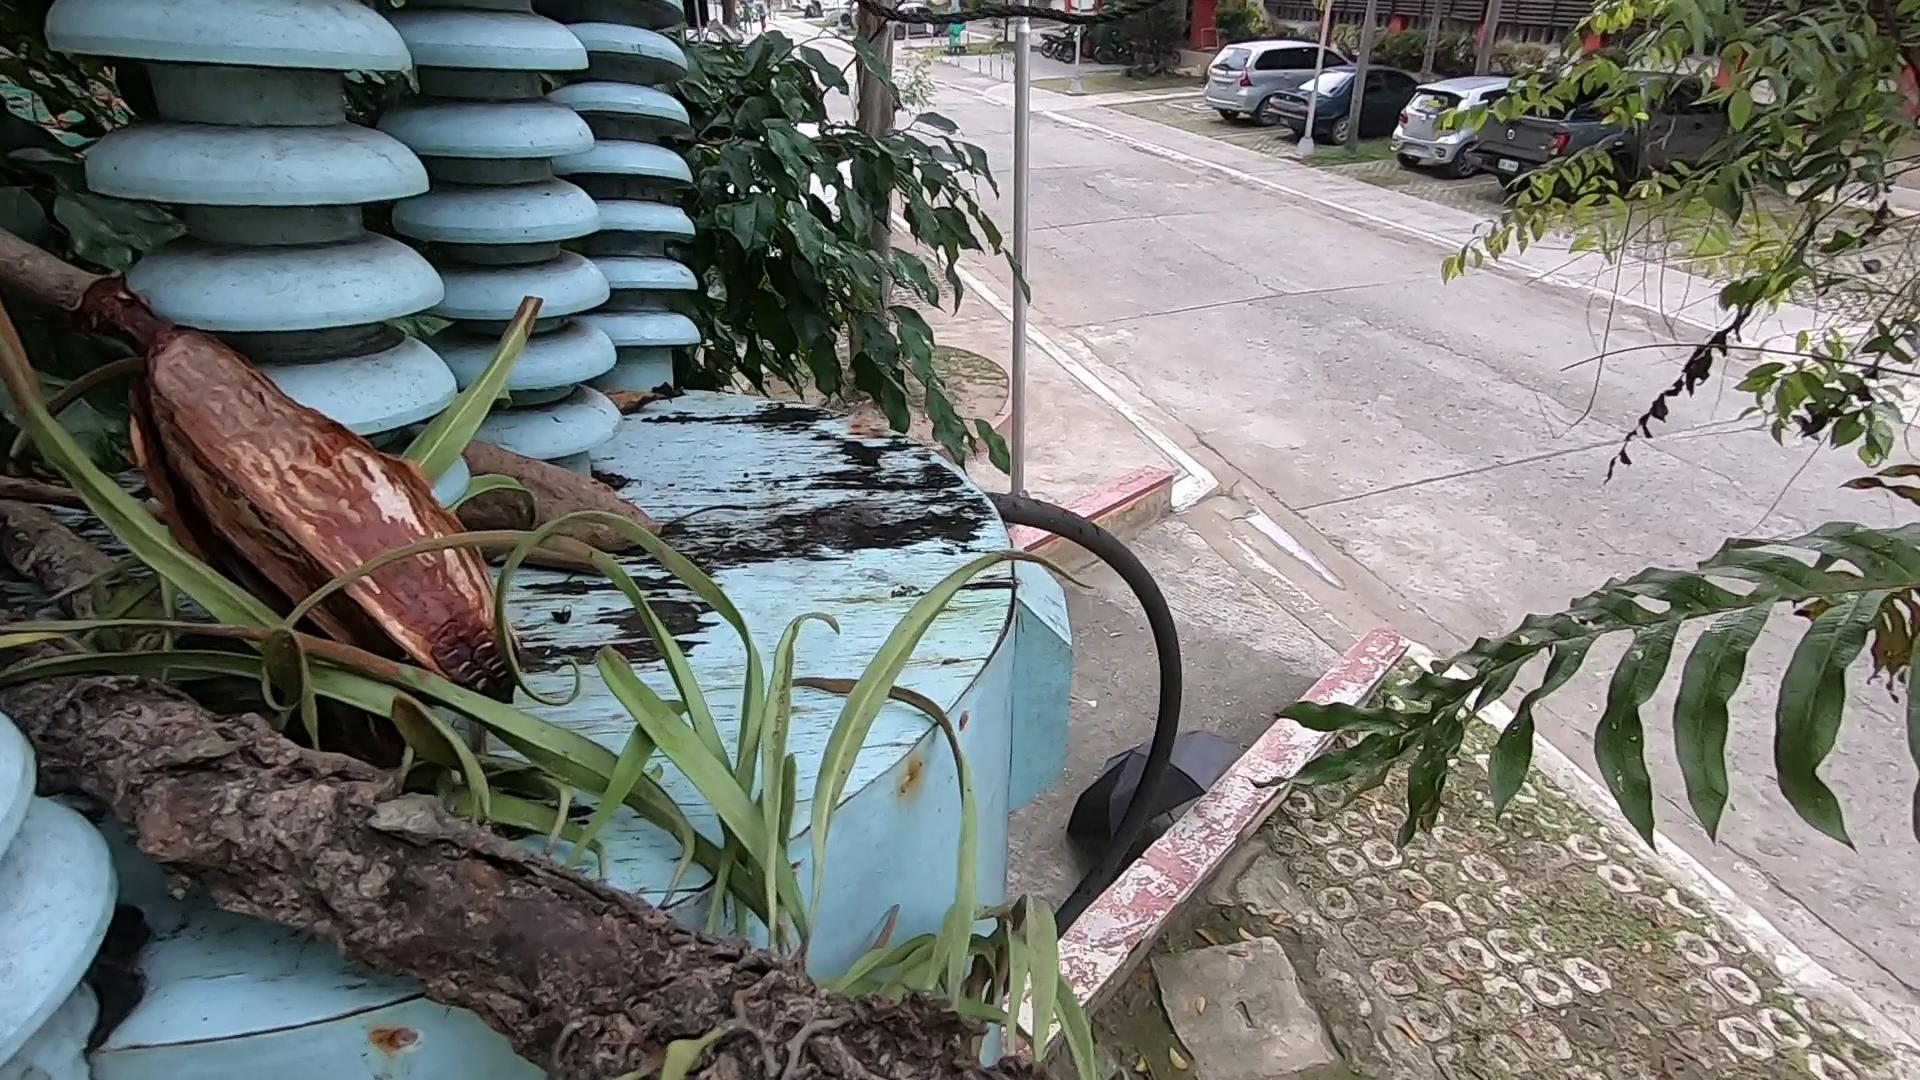branch with leaves: (44, 663, 1034, 1075)
leaf: (615, 382, 688, 419)
mahogany fruit: (393, 328, 762, 647), (167, 258, 481, 496)
tree branch: (1, 477, 655, 593), (7, 203, 102, 373)
